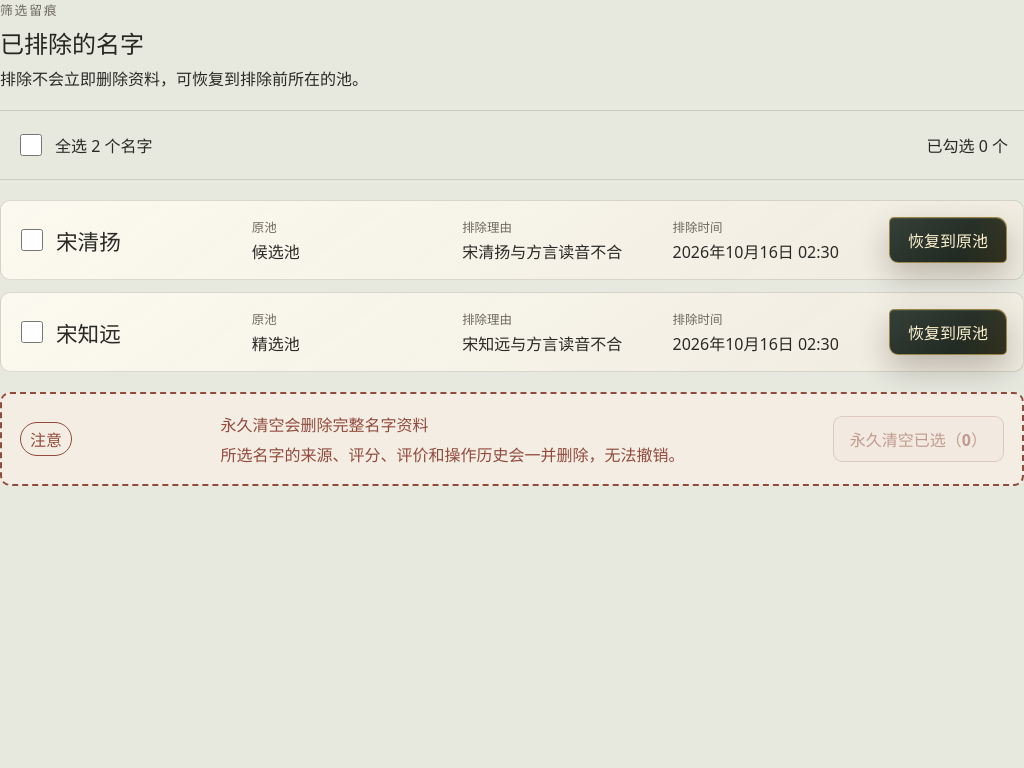
ExcludedCandidatesSection › only permanently clears checked names after the exact count is entered
Click the checkbox named "选择永久清空宋清扬": (32, 240) [21, 229, 43, 251]
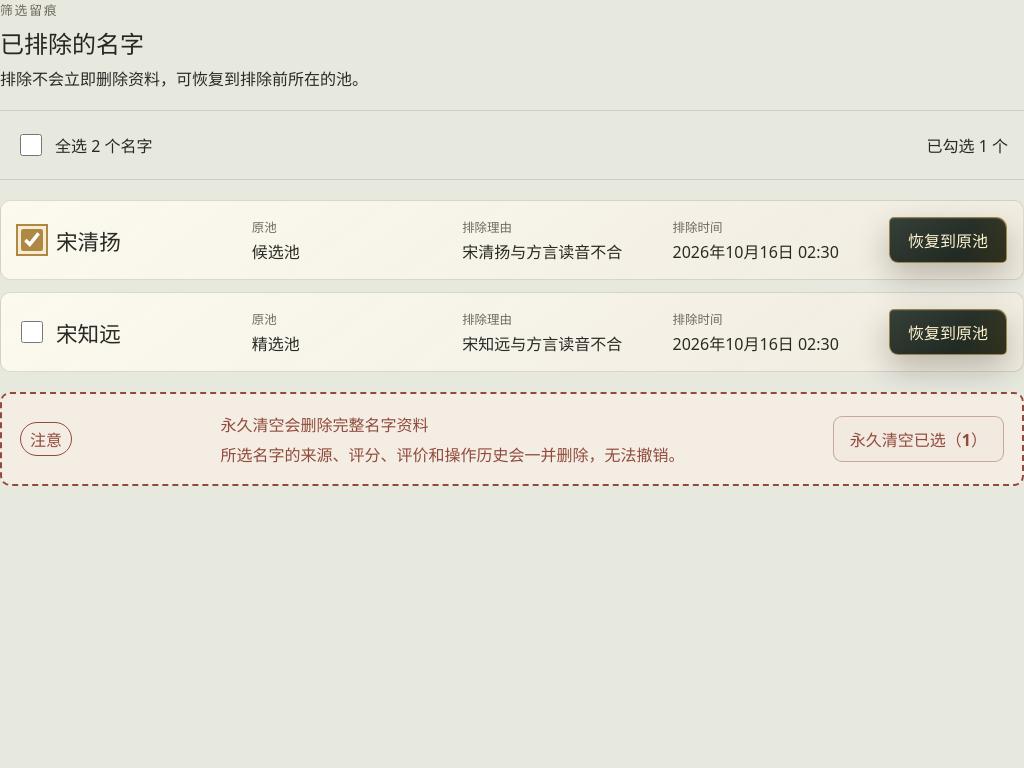
Click the checkbox named "选择永久清空宋知远": (32, 332) [21, 321, 43, 343]
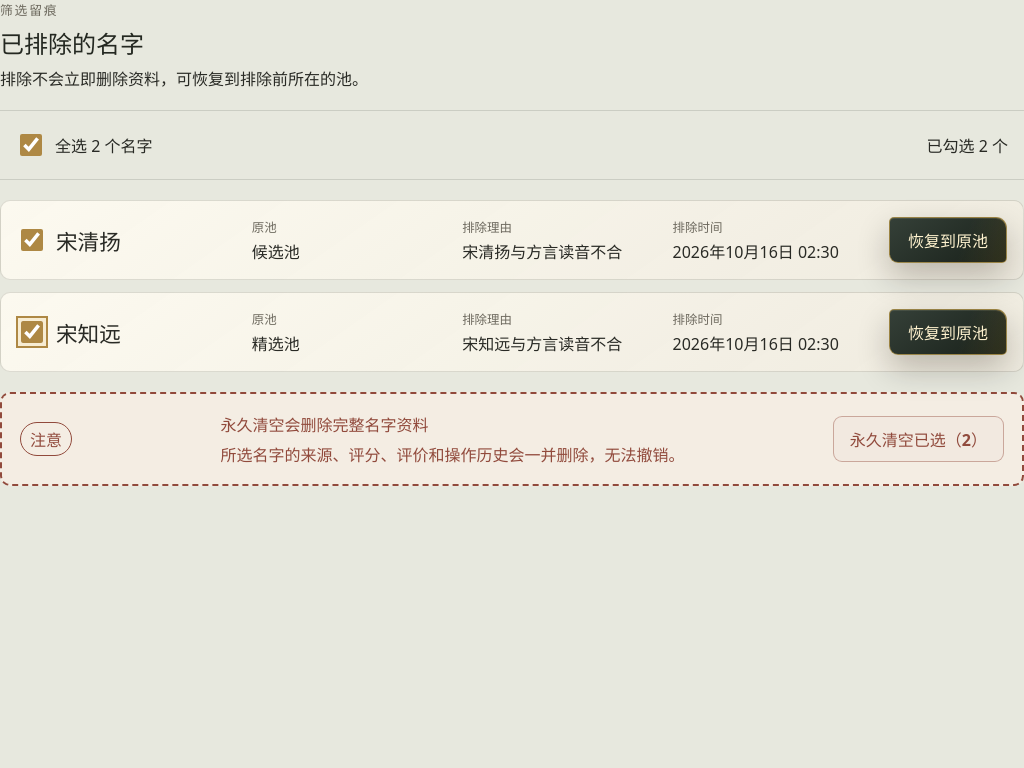
Result: the text "已勾选 2 个" is shown at [926, 133, 1008, 157]
Click the button with aria-label "永久清空已勾选的 2 个名字": (918, 439) [833, 416, 1004, 462]
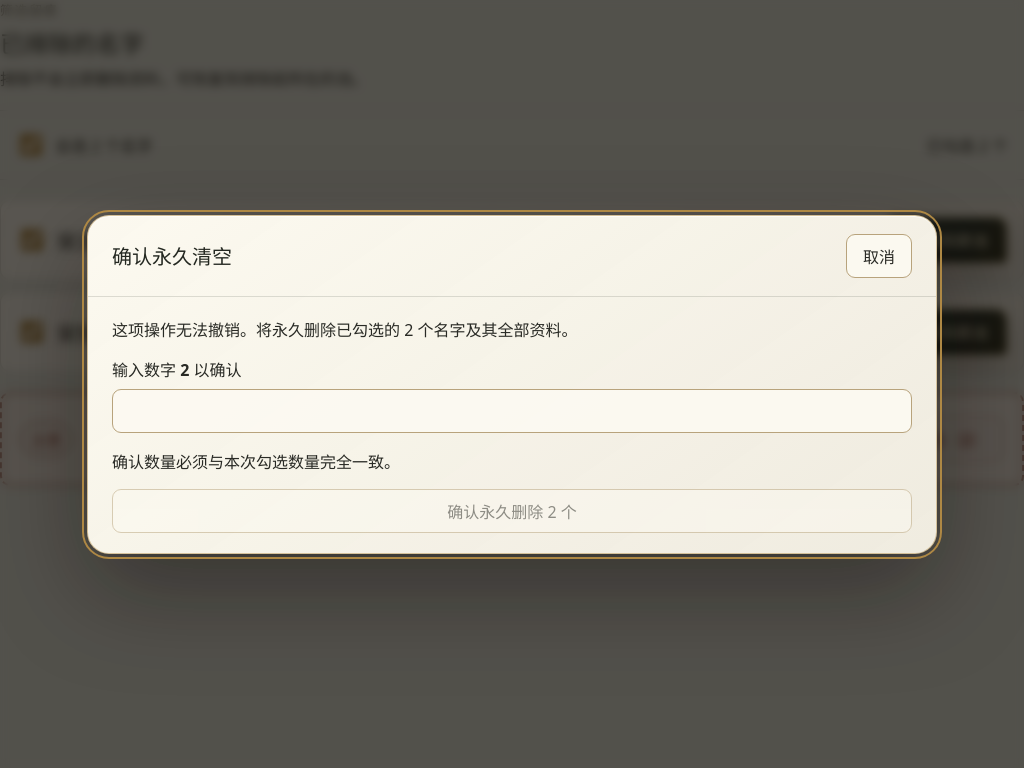
Result: the text "这项操作无法撤销。" is shown at [112, 318, 256, 340]
In the field labelled "输入数字 2 以确认": (512, 410) [112, 388, 912, 432], type "1"
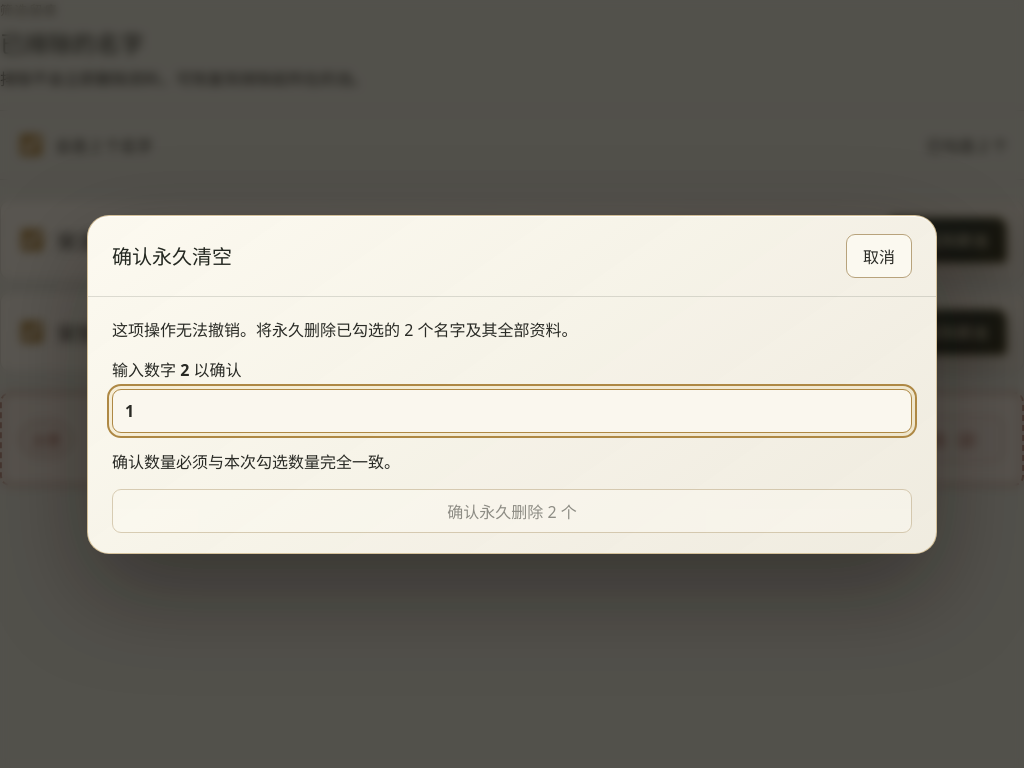
Result: the button with aria-label "确认永久删除 2 个名字" is disabled at [112, 488, 912, 532]
Replace the text in the field labelled "输入数字 2 以确认" with "2": (512, 410) [112, 388, 912, 432]
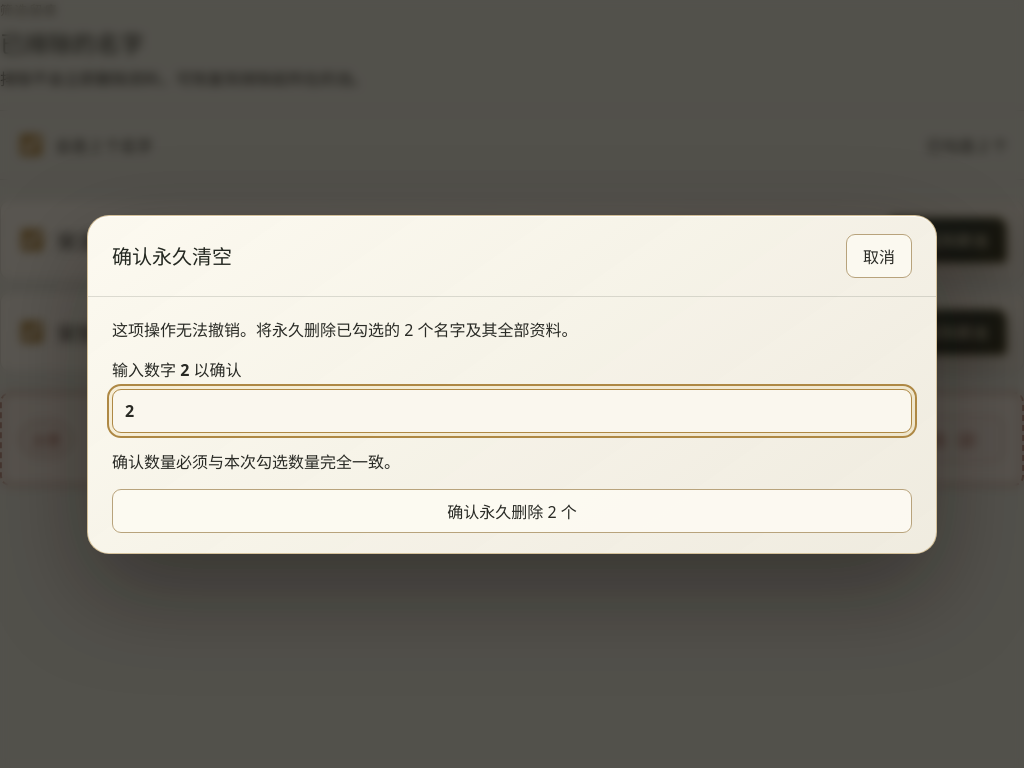
Result: the button with aria-label "确认永久删除 2 个名字" is enabled
Click the button with aria-label "确认永久删除 2 个名字": (512, 510) [112, 488, 912, 532]
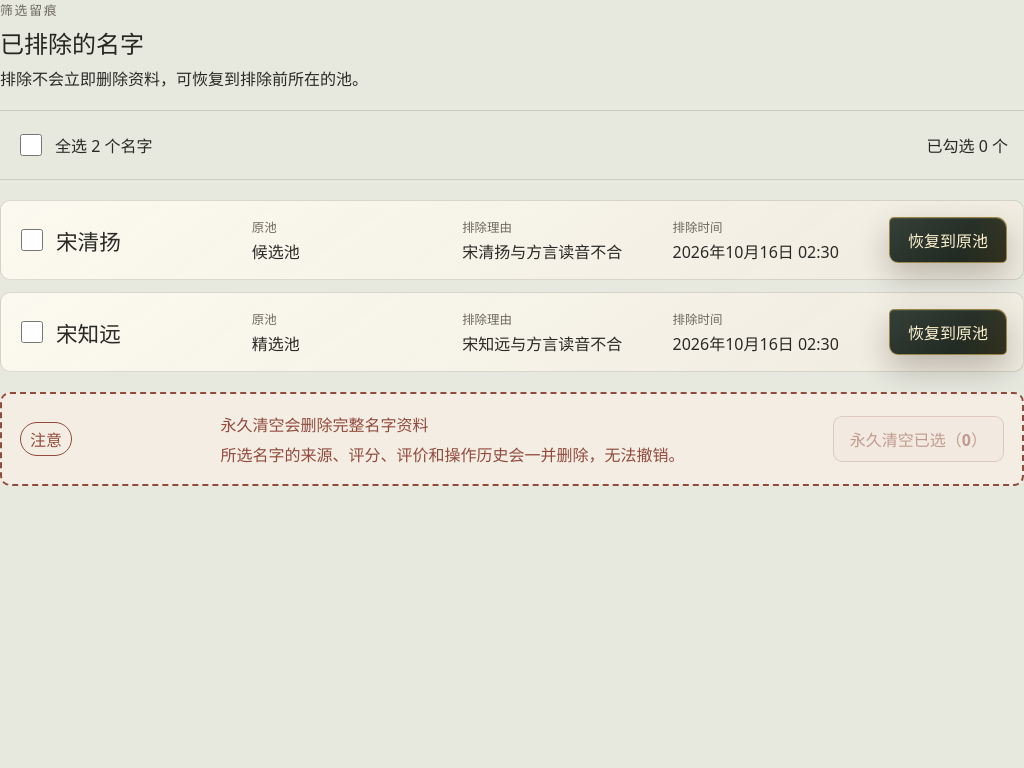
Result: the heading "确认永久清空" is gone
